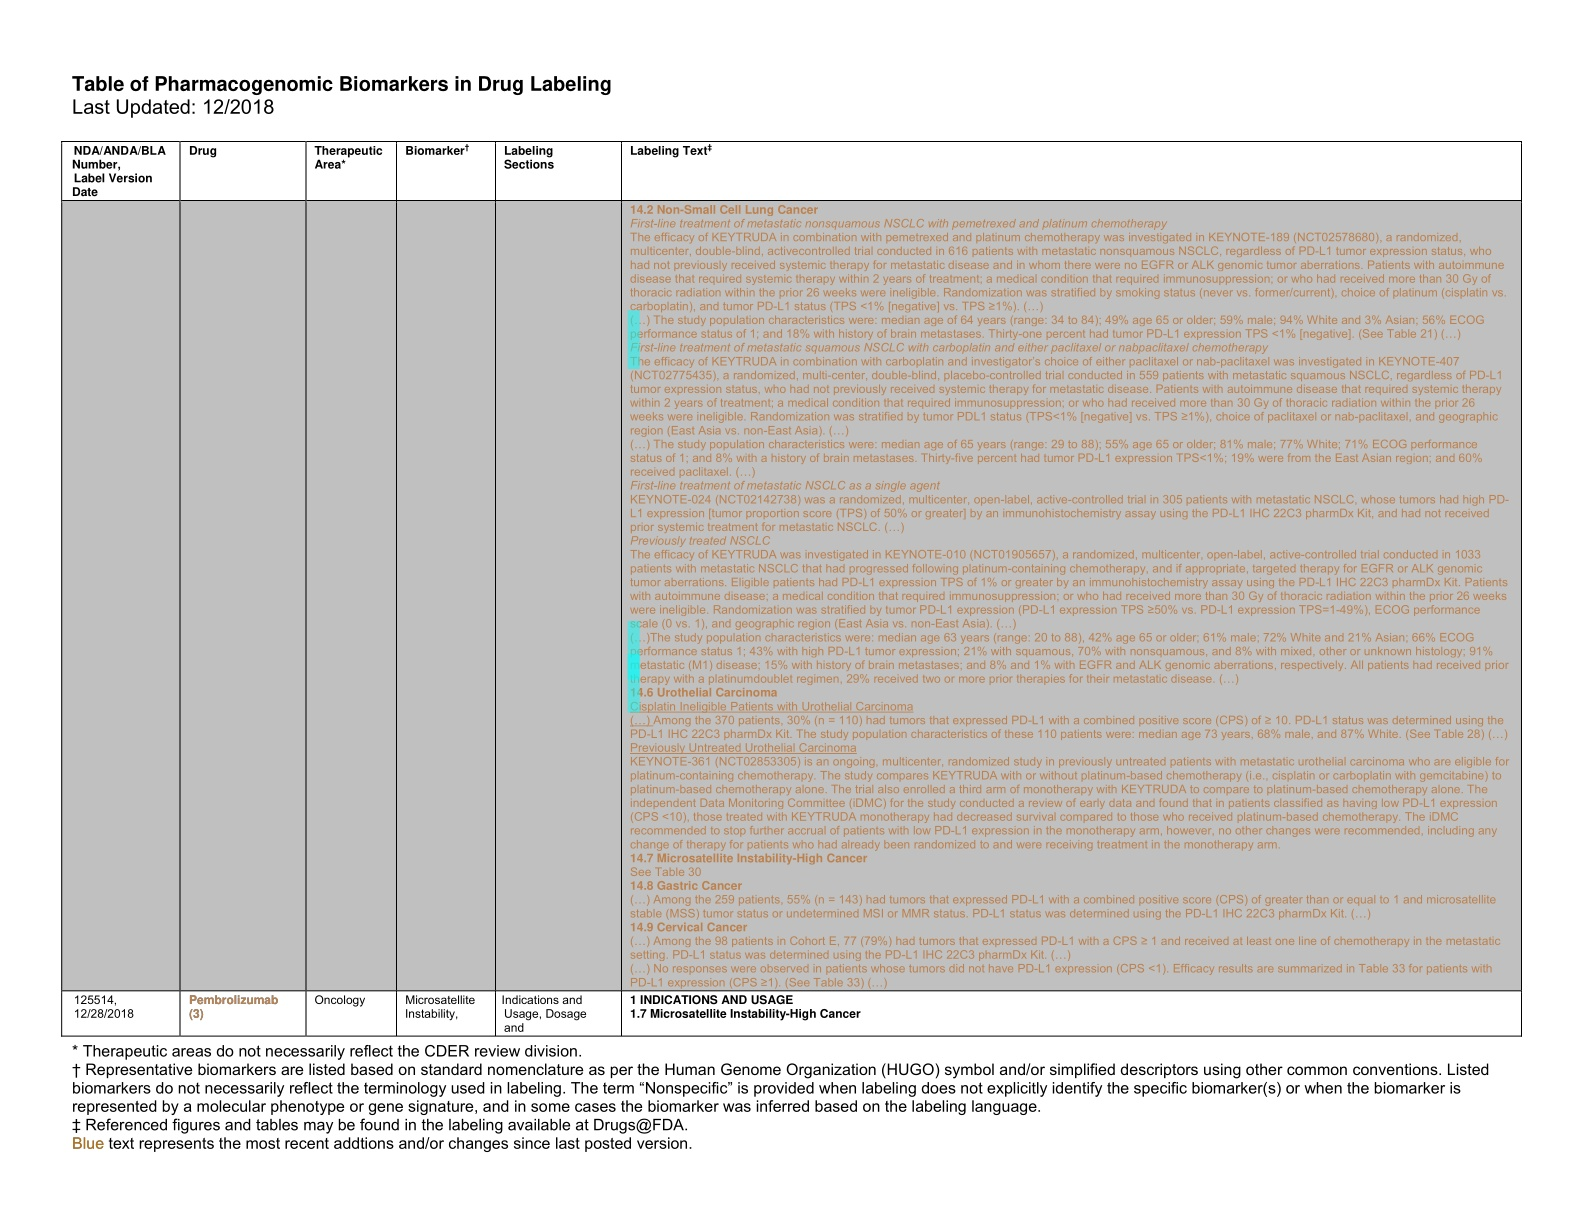full_lined: (59, 139, 1524, 1038)
